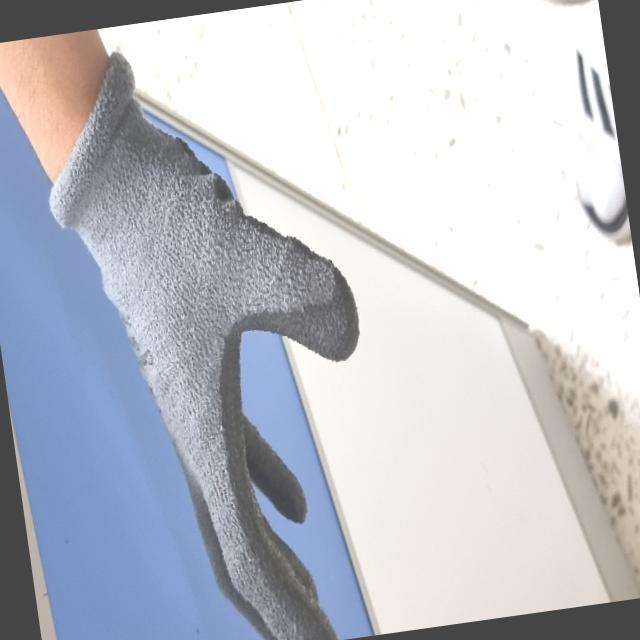Gloves: (45, 44, 365, 640)
